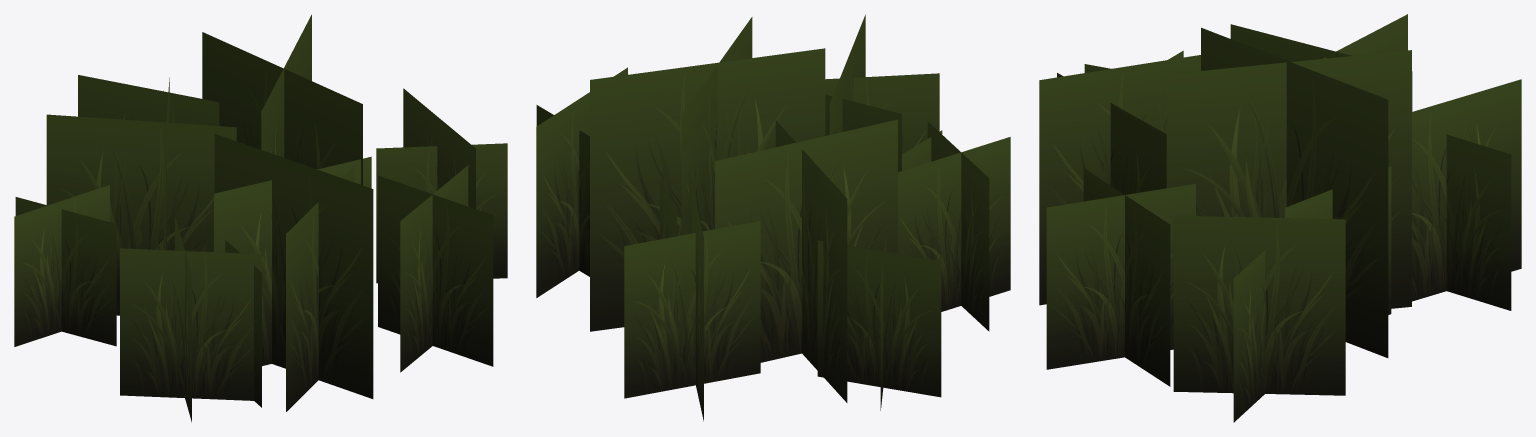
Rendered from Grass_01.fbx.
3 renders of one model, left to right at view 1: azimuth 30°, elevation 25°; view 2: azimuth 150°, elevation 25°; view 3: azimuth 270°, elevation 25°, orthographic. The views are drawn at different scales.
Parts seen in each view (by area): view 1: Grass_01; view 2: Grass_01; view 3: Grass_01.
Part boxes in pixels (<box>): Grass_01: <box>14,14,507,422</box>; Grass_01: <box>536,14,1010,421</box>; Grass_01: <box>1039,14,1521,422</box>.
Bounding box in the file's own units: 2.9 × 1.52 × 2.57.
Materials: 1 (1 with a texture image).
